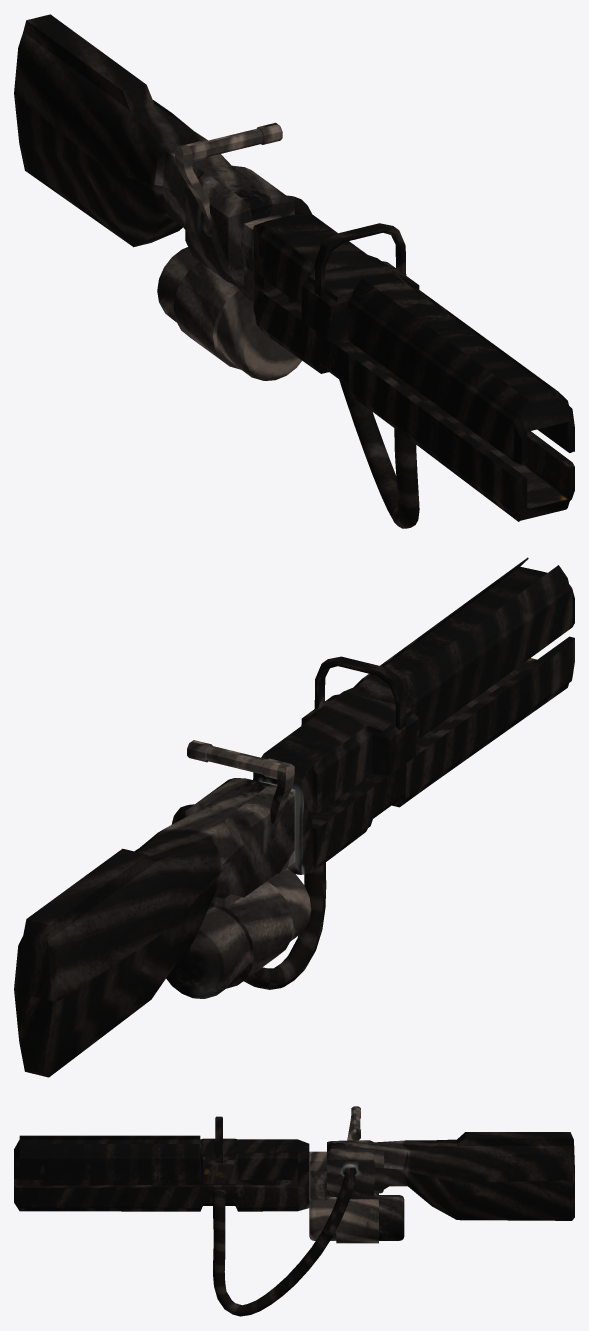
Rendered from wepon.fbx.
3 renders of one model, top to bottom at view 1: azimuth 30°, elevation 25°; view 2: azimuth 150°, elevation 25°; view 3: azimuth 270°, elevation 25°, orthographic. The views are drawn at different scales.
Parts seen in each view (by area): view 1: pCylinder2; view 2: pCylinder2; view 3: pCylinder2.
Part boxes in pixels (bbox=[...]): pCylinder2: bbox=[14, 14, 574, 528]; pCylinder2: bbox=[14, 557, 574, 1077]; pCylinder2: bbox=[14, 1106, 574, 1316].
Bounding box in the file's own units: 1.61 × 3.74 × 10.64.
